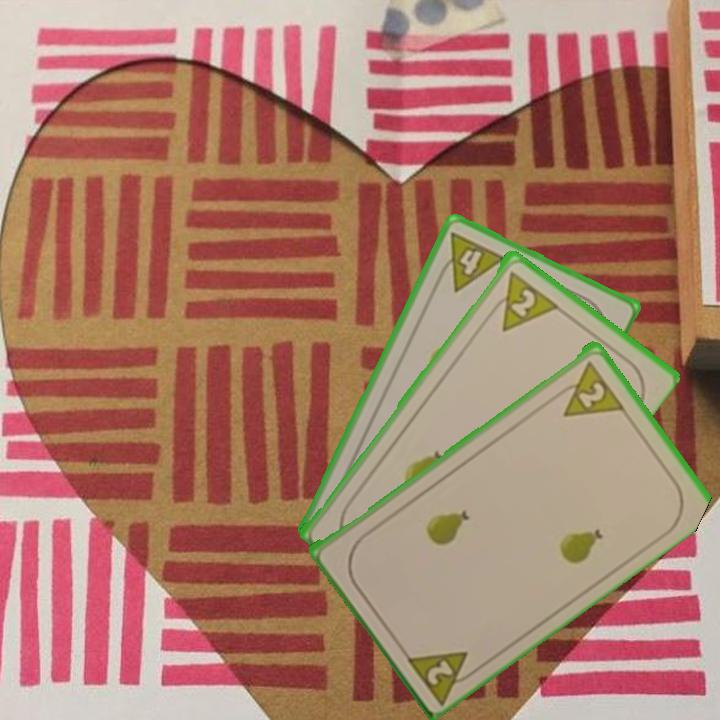2p: (484, 267, 560, 334), (401, 646, 484, 706), (550, 357, 626, 420)
4p: (432, 228, 509, 295)
